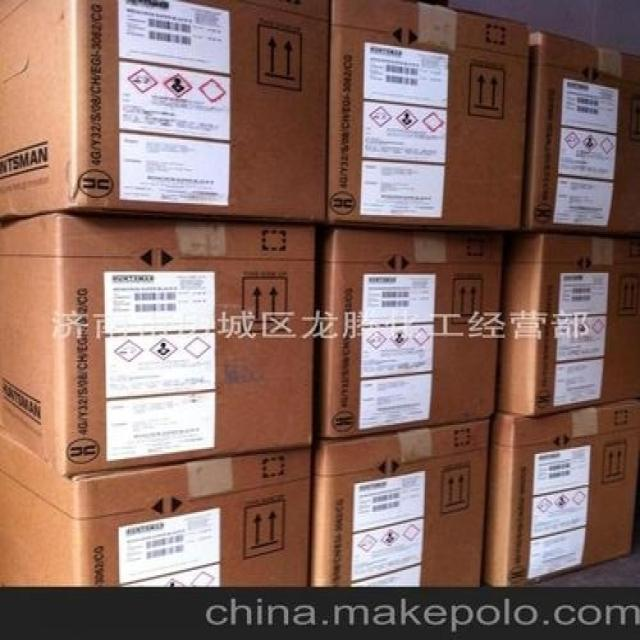box: (0, 212, 316, 479), (0, 0, 330, 224), (0, 431, 312, 587), (325, 0, 532, 231), (320, 226, 501, 438), (310, 419, 490, 587), (483, 399, 638, 587), (498, 234, 639, 416), (521, 31, 639, 236)
